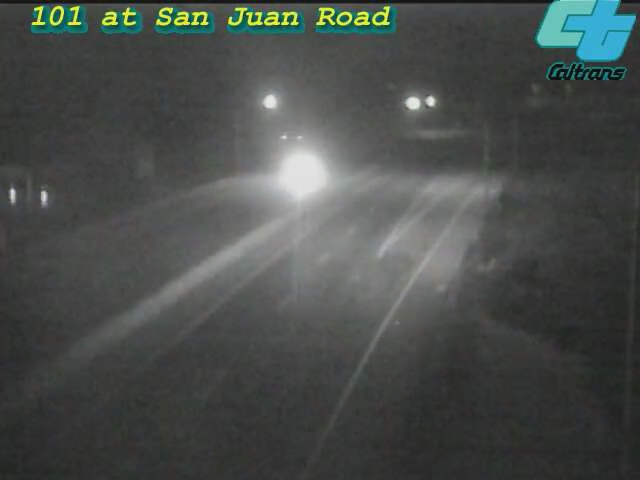vehicle: (106, 213, 186, 293), (255, 136, 335, 216)
